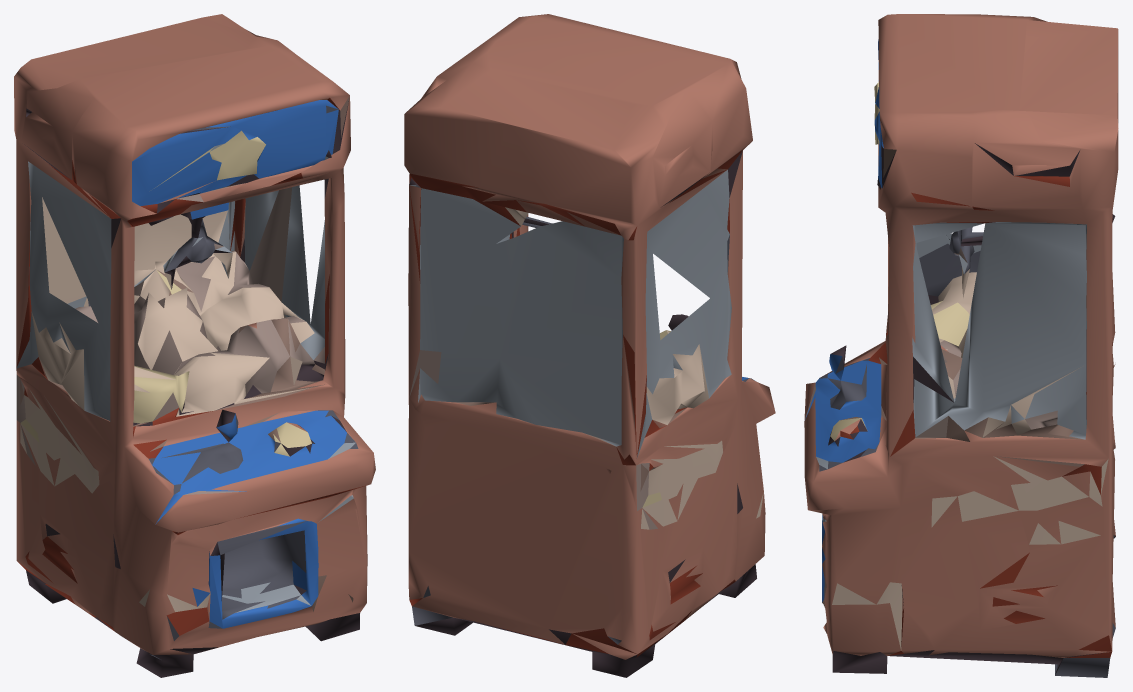
File: claw-D-SBPklg.glb
3 views of the same model, side by side, from view 1: azimuth 30°, elevation 25°; view 2: azimuth 150°, elevation 25°; view 3: azimuth 270°, elevation 25° (orthographic). The views are drawn at different scales.
Parts seen in each view (by area): view 1: tripo_node_d83d0436-6cd9-43d3-81fc-afca90b26c70; view 2: tripo_node_d83d0436-6cd9-43d3-81fc-afca90b26c70; view 3: tripo_node_d83d0436-6cd9-43d3-81fc-afca90b26c70.
Part boxes in pixels (x1=…): tripo_node_d83d0436-6cd9-43d3-81fc-afca90b26c70: x1=14, y1=14, x2=375, y2=677; tripo_node_d83d0436-6cd9-43d3-81fc-afca90b26c70: x1=404, y1=14, x2=775, y2=677; tripo_node_d83d0436-6cd9-43d3-81fc-afca90b26c70: x1=804, y1=14, x2=1118, y2=677.
Size of the model in its own units: 0.4695 by 0.9749 by 0.4948.
